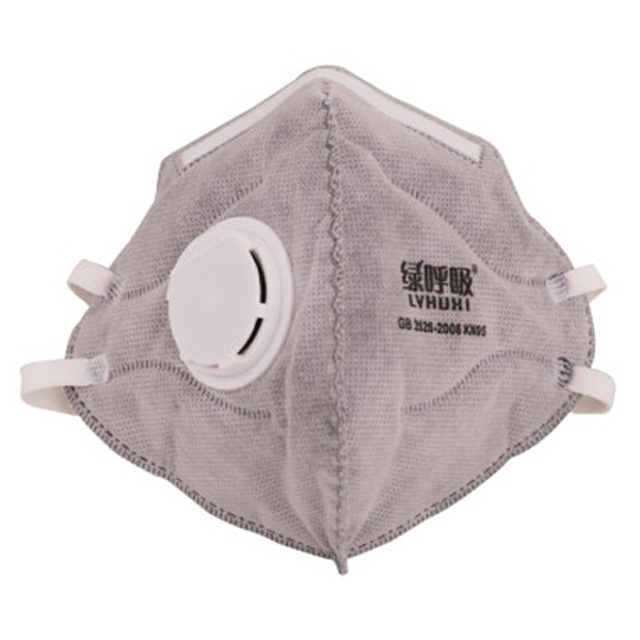mask: (17, 58, 622, 581)
